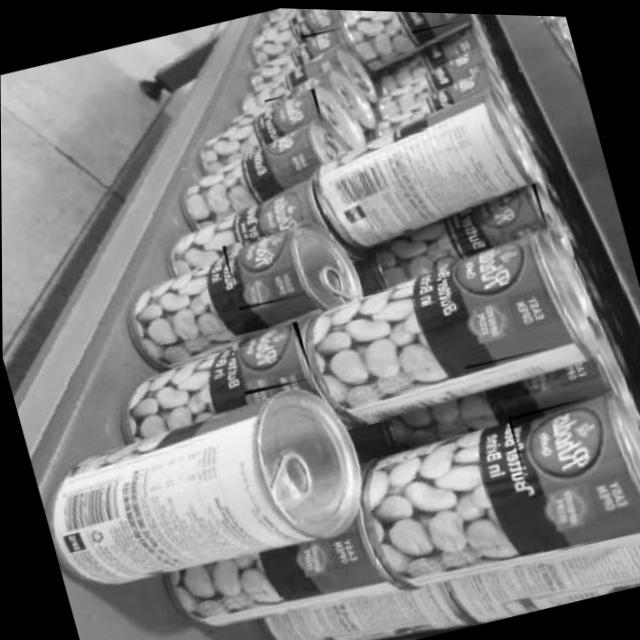Beans: (504, 384, 640, 553), (432, 228, 562, 369), (218, 225, 309, 311), (227, 316, 310, 395), (465, 176, 548, 248), (245, 178, 321, 239), (260, 85, 321, 134), (290, 7, 343, 37), (395, 9, 461, 30)
